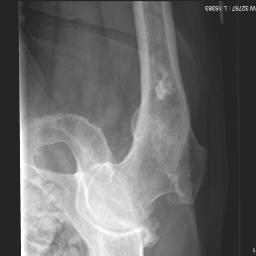cancer: (149, 28, 174, 100)
